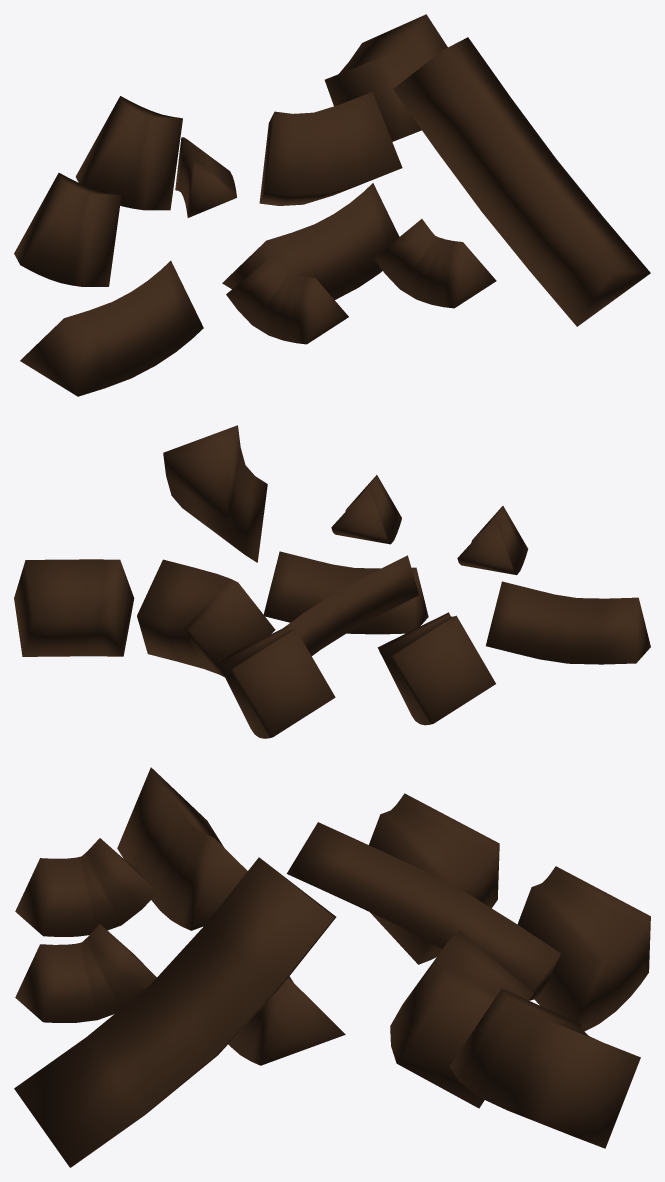
The model's file is bonfire3.obj.
3 renders of one model, top to bottom at view 1: azimuth 30°, elevation 25°; view 2: azimuth 150°, elevation 25°; view 3: azimuth 270°, elevation 25°, orthographic. The views are drawn at different scales.
Visible parts, largest first — view 1: Wick4, Wick2, Wick6_1, Wick2_1, Wick3, Wick3_1, Wick6, Wick1_1, Wick1, Wick5; view 2: Wick6, Wick2, Wick6_1, Wick4, Wick3, Wick3_1, Wick2_1, Wick5, Wick1, Wick1_1; view 3: Wick4, Wick6, Wick5, Wick3_1, Wick2, Wick6_1, Wick3, Wick1, Wick1_1, Wick2_1.
Part boxes in pixels (bbox=[...]): Wick4: bbox=[393, 37, 650, 326]; Wick2: bbox=[20, 261, 203, 396]; Wick6_1: bbox=[259, 92, 402, 205]; Wick2_1: bbox=[222, 183, 399, 299]; Wick3: bbox=[14, 173, 121, 286]; Wick3_1: bbox=[75, 96, 182, 210]; Wick6: bbox=[324, 14, 447, 141]; Wick1_1: bbox=[373, 219, 496, 308]; Wick1: bbox=[226, 254, 348, 344]; Wick5: bbox=[175, 137, 236, 217]; Wick6: bbox=[14, 559, 134, 656]; Wick2: bbox=[486, 581, 650, 664]; Wick6_1: bbox=[137, 559, 275, 677]; Wick4: bbox=[163, 425, 267, 562]; Wick3: bbox=[377, 612, 495, 725]; Wick3_1: bbox=[217, 626, 335, 738]; Wick2_1: bbox=[263, 551, 428, 634]; Wick5: bbox=[284, 555, 418, 655]; Wick1: bbox=[457, 506, 527, 575]; Wick1_1: bbox=[331, 475, 401, 544]; Wick4: bbox=[14, 857, 336, 1167]; Wick6: bbox=[449, 988, 640, 1148]; Wick5: bbox=[286, 822, 560, 1000]; Wick3_1: bbox=[517, 866, 650, 1031]; Wick2: bbox=[117, 767, 247, 930]; Wick6_1: bbox=[390, 930, 533, 1108]; Wick3: bbox=[369, 793, 499, 964]; Wick1: bbox=[15, 838, 157, 936]; Wick1_1: bbox=[15, 924, 156, 1022]; Wick2_1: bbox=[217, 902, 345, 1065].
Size of the model in its own units: 0.8799 by 0.3322 by 0.6891.
